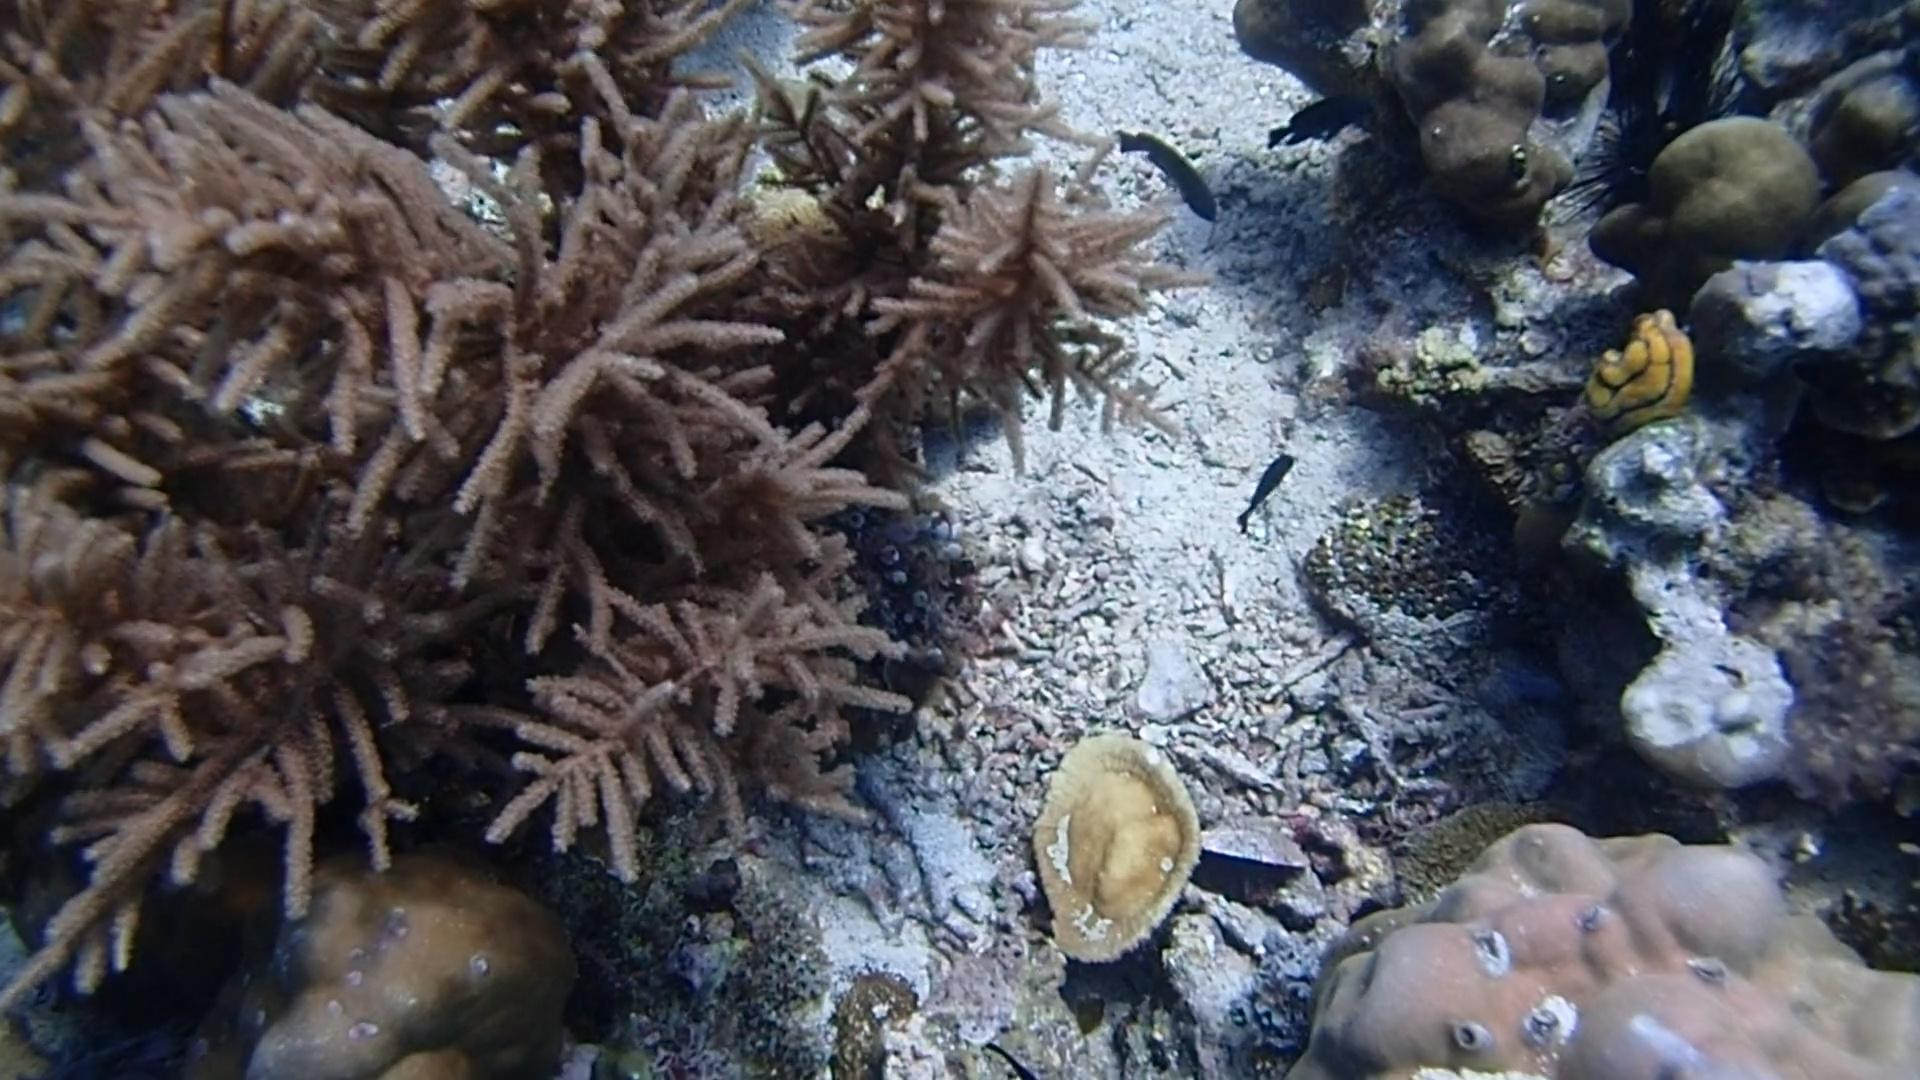Dark Fish: (1110, 124, 1233, 227), (1257, 94, 1383, 152), (1233, 447, 1308, 533)
